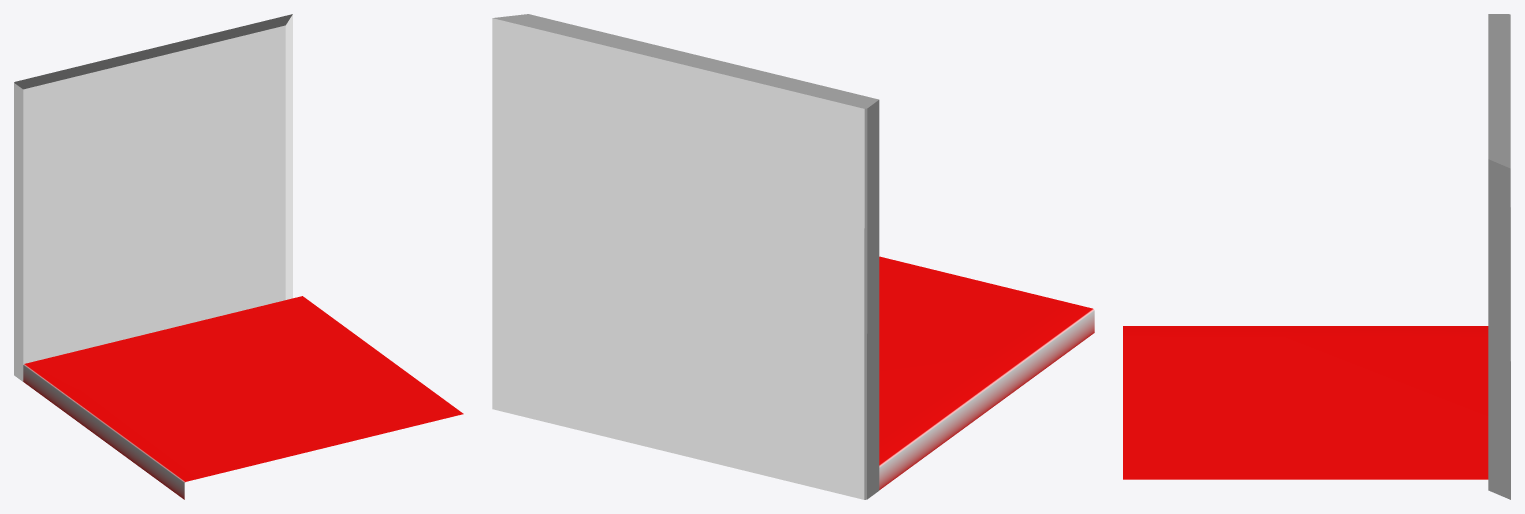
File: SM_Pavement_3m_box_low.fbx
The picture shows the model from 3 angles, left to right: view 1: azimuth 30°, elevation 25°; view 2: azimuth 150°, elevation 25°; view 3: azimuth 270°, elevation 25°; orthographic projection. The views are drawn at different scales.
Visible parts, largest first — view 1: SM_Pavement_3m_box_low_ConvexHulls, SM_Pavement_3m_box_low_LOD0; view 2: SM_Pavement_3m_box_low_ConvexHulls, SM_Pavement_3m_box_low_LOD0; view 3: SM_Pavement_3m_box_low_LOD0, SM_Pavement_3m_box_low_ConvexHulls.
Boxes of the visible parts, <box> form: SM_Pavement_3m_box_low_ConvexHulls: <box>14,14,292,381</box>; SM_Pavement_3m_box_low_LOD0: <box>23,296,463,499</box>; SM_Pavement_3m_box_low_ConvexHulls: <box>492,14,879,499</box>; SM_Pavement_3m_box_low_LOD0: <box>879,256,1094,489</box>; SM_Pavement_3m_box_low_LOD0: <box>1123,326,1488,479</box>; SM_Pavement_3m_box_low_ConvexHulls: <box>1488,14,1510,499</box>.
Size of the model in its own units: 300 by 318 by 300.
